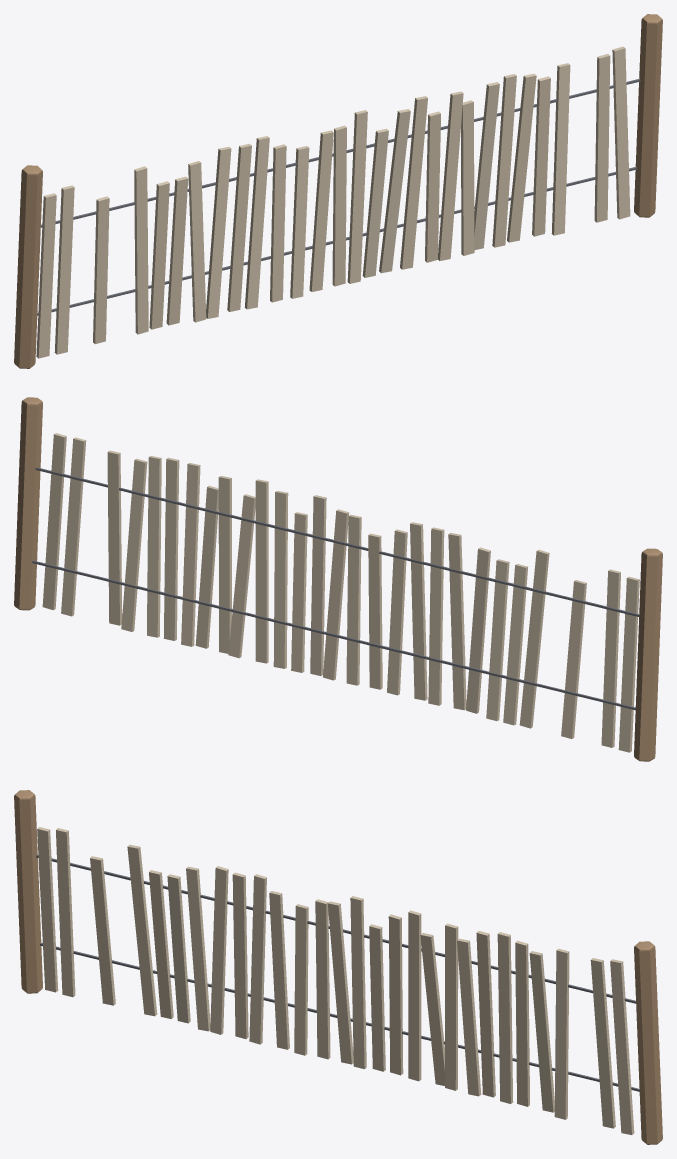
The model's file is SandFence.fbx.
3 views of the same model, one above another, from view 1: azimuth 30°, elevation 25°; view 2: azimuth 150°, elevation 25°; view 3: azimuth 330°, elevation 25° (orthographic).
Visible parts, largest first — view 1: SandFence; view 2: SandFence; view 3: SandFence.
Boxes of the visible parts, left/top/right/bottom form: SandFence: left=14, top=14, right=662, bottom=368; SandFence: left=14, top=397, right=662, bottom=761; SandFence: left=14, top=790, right=662, bottom=1144.
Size of the model in its own units: 4.1 by 1.25 by 0.2048.
